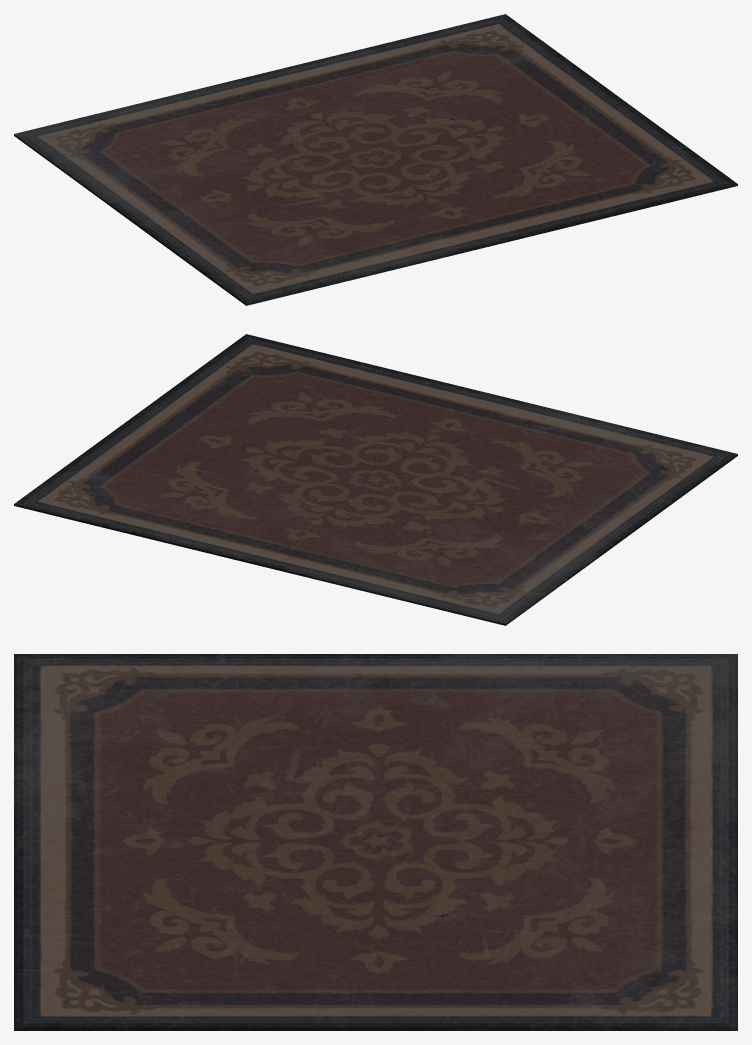
Rendered from big_carpet.fbx.
The picture shows the model from 3 angles, top to bottom: view 1: azimuth 30°, elevation 25°; view 2: azimuth 150°, elevation 25°; view 3: azimuth 270°, elevation 25°; orthographic projection. The views are drawn at different scales.
Visible parts, largest first — view 1: big_carpet.001; view 2: big_carpet.001; view 3: big_carpet.001.
Part boxes in pixels (x1=…): big_carpet.001: x1=14, y1=14, x2=737, y2=305; big_carpet.001: x1=14, y1=334, x2=737, y2=625; big_carpet.001: x1=14, y1=654, x2=737, y2=1030.
Bounding box in the file's own units: 6.1 × 0.0222 × 4.99.
Materials: 1 (1 with a texture image).
